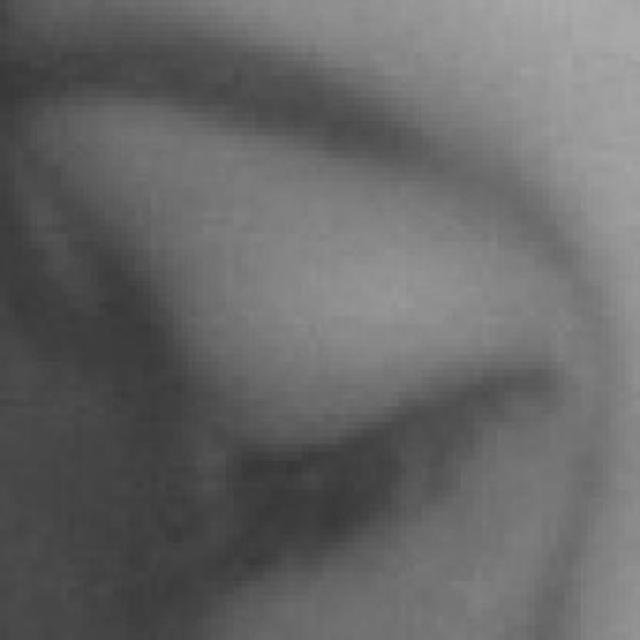drowsy: (188, 249, 557, 633)
